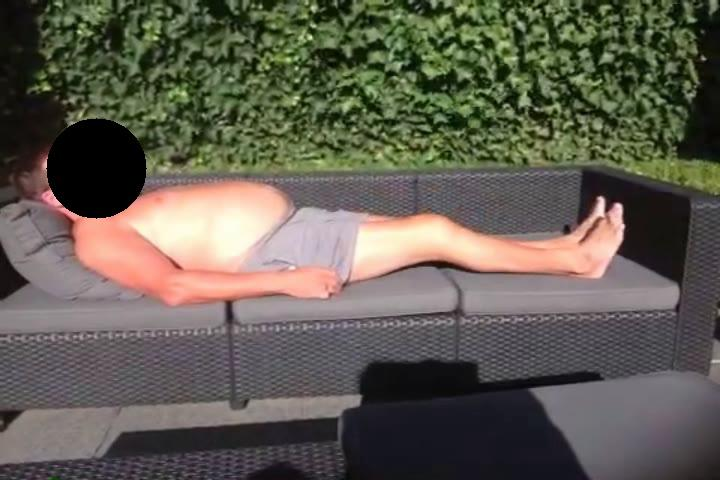lower_body: (274, 194, 629, 288)
